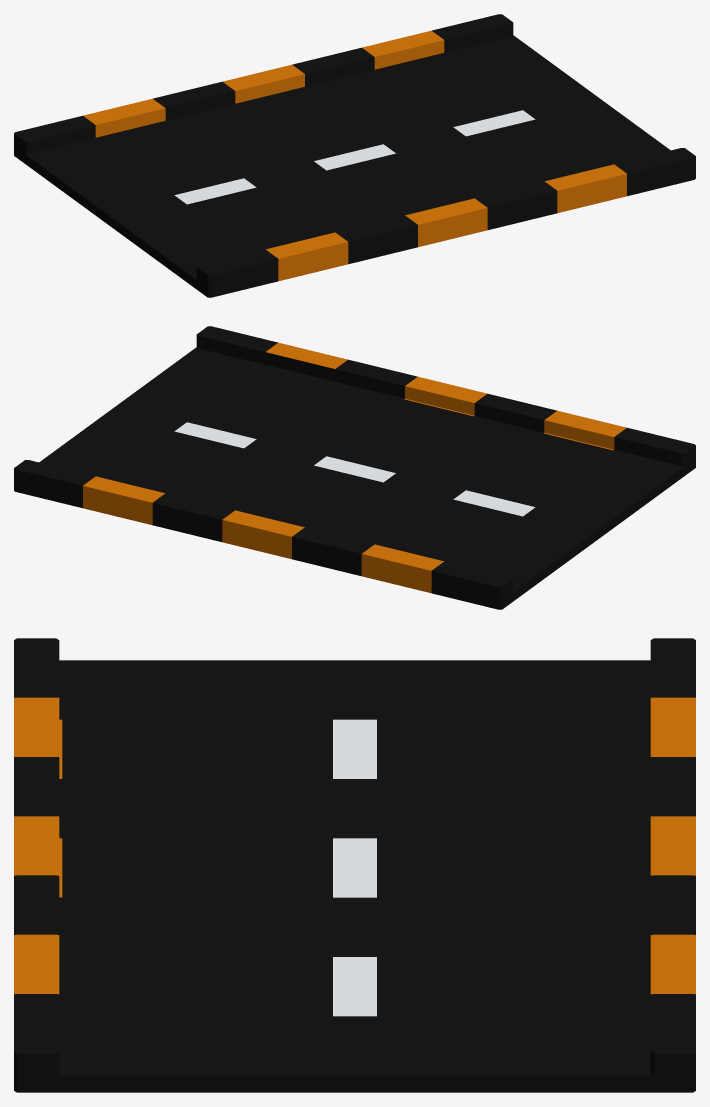
The model's file is Road_Straight_01.fbx.
3 renders of one model, top to bottom at view 1: azimuth 30°, elevation 25°; view 2: azimuth 150°, elevation 25°; view 3: azimuth 270°, elevation 25°, orthographic. The views are drawn at different scales.
Parts seen in each view (by area): view 1: Road_Straight_01; view 2: Road_Straight_01; view 3: Road_Straight_01.
Part boxes in pixels (x1,y1,x2,y2): Road_Straight_01: [14, 14, 695, 297]; Road_Straight_01: [14, 326, 695, 609]; Road_Straight_01: [14, 638, 695, 1092].
Bounding box in the file's own units: 6.98 × 0.3084 × 4.85.
